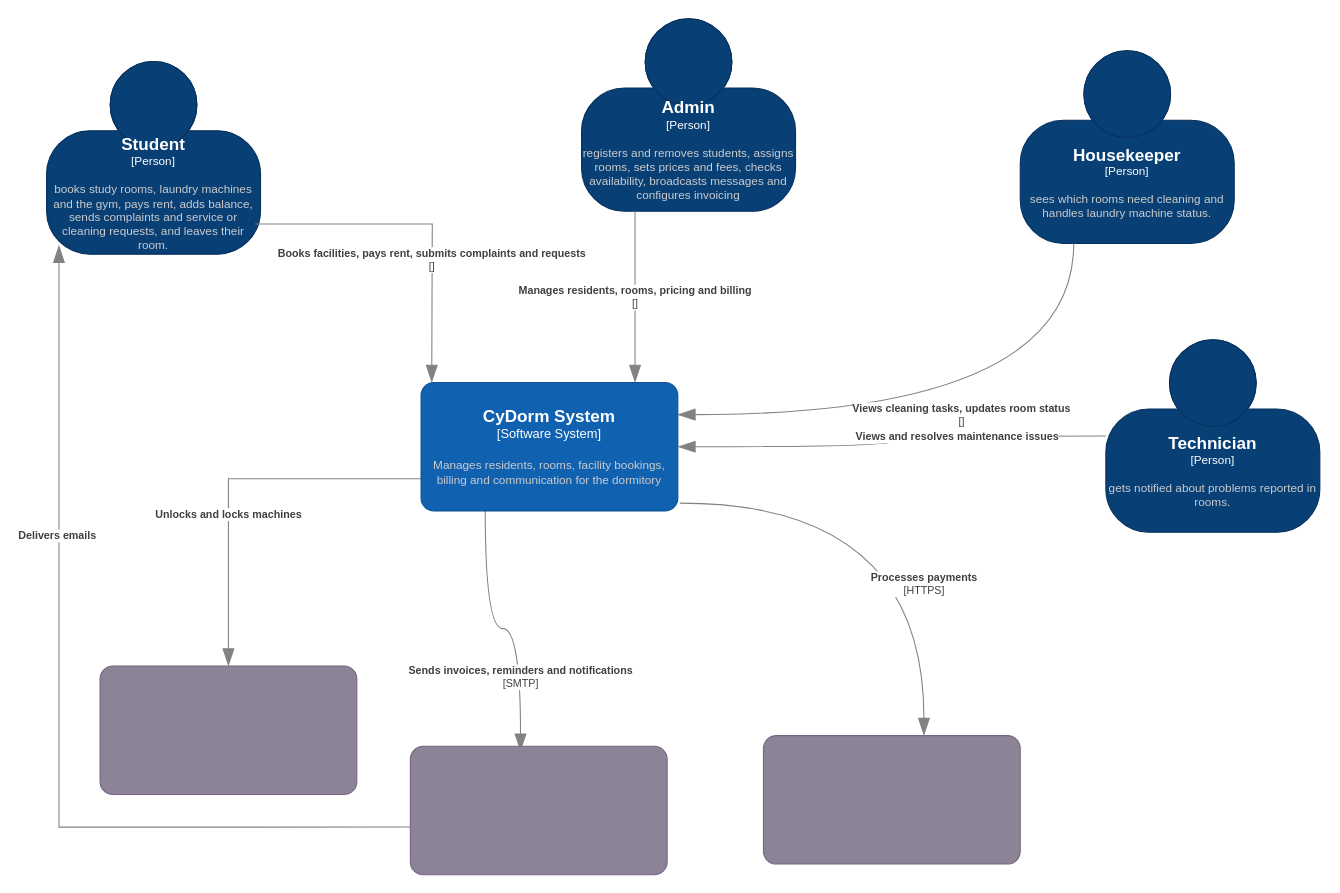
Some shapes in this 1340 by 893 pixel diagram are drawn without their labels. The centre of each missing label's shape, as x and y in pixels:
Mail Provider [Software System]: the point at 538,810
Payment Provider [Software System]: the point at 891,799
Smart Laundry Machines [IoT controller]: the point at 228,729
